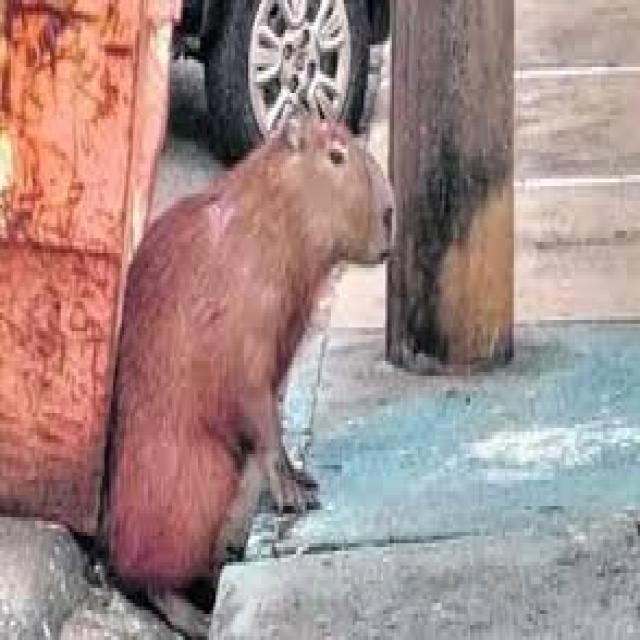capy: (107, 104, 394, 640)
